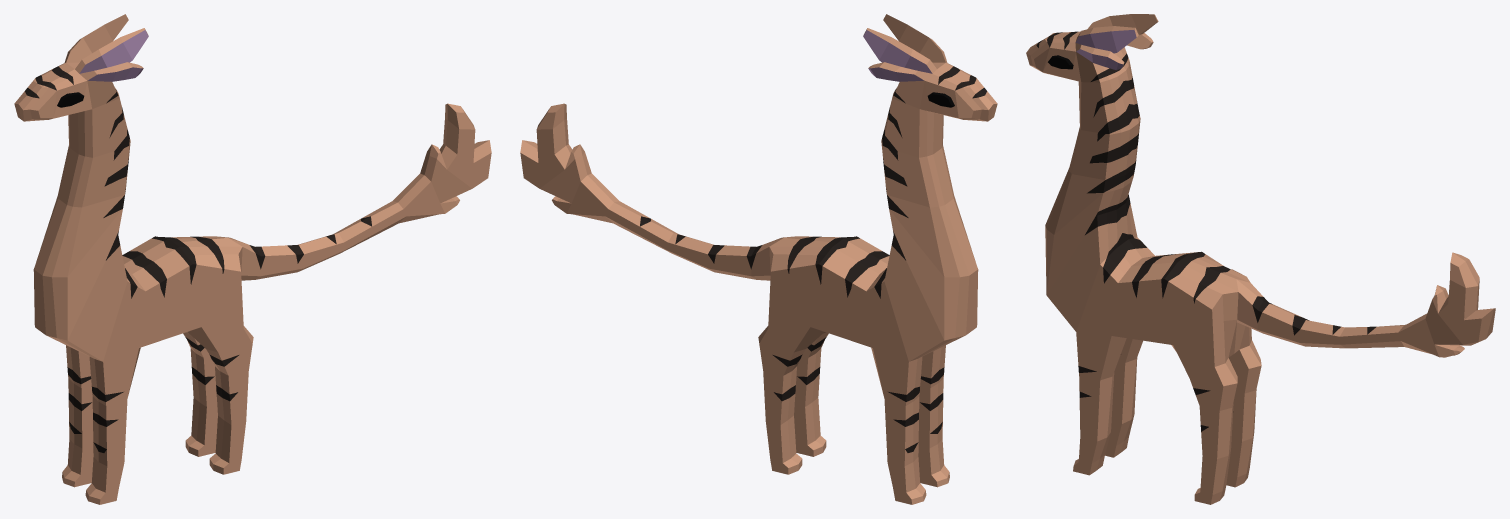
Rendered from Arcadia.fbx.
3 renders of one model, left to right at view 1: azimuth 30°, elevation 25°; view 2: azimuth 150°, elevation 25°; view 3: azimuth 330°, elevation 25°, orthographic.
Parts seen in each view (by area): view 1: Plane; view 2: Plane; view 3: Plane.
Boxes of the visible parts, x1=… form: Plane: x1=14, y1=14, x2=491, y2=504; Plane: x1=520, y1=14, x2=997, y2=504; Plane: x1=1026, y1=14, x2=1495, y2=504.
Size of the model in its own units: 271 by 251 by 37.73.
